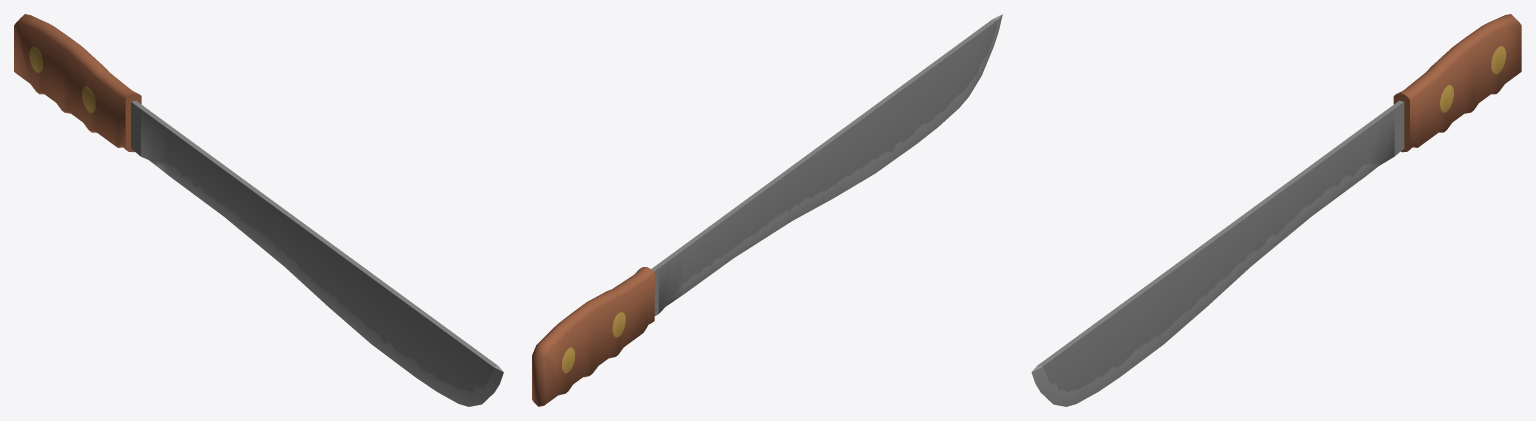
Rendered from Knife_Machete.fbx.
3 renders of one model, left to right at view 1: azimuth 30°, elevation 25°; view 2: azimuth 150°, elevation 25°; view 3: azimuth 330°, elevation 25°, orthographic. The views are drawn at different scales.
Parts seen in each view (by area): view 1: Knife_Machete; view 2: Knife_Machete; view 3: Knife_Machete.
Part boxes in pixels (x1,y1,x2,y2): Knife_Machete: [14, 14, 503, 406]; Knife_Machete: [532, 14, 1002, 406]; Knife_Machete: [1031, 14, 1521, 406].
Bounding box in the file's own units: 0.0111 × 0.0545 × 0.5686.
